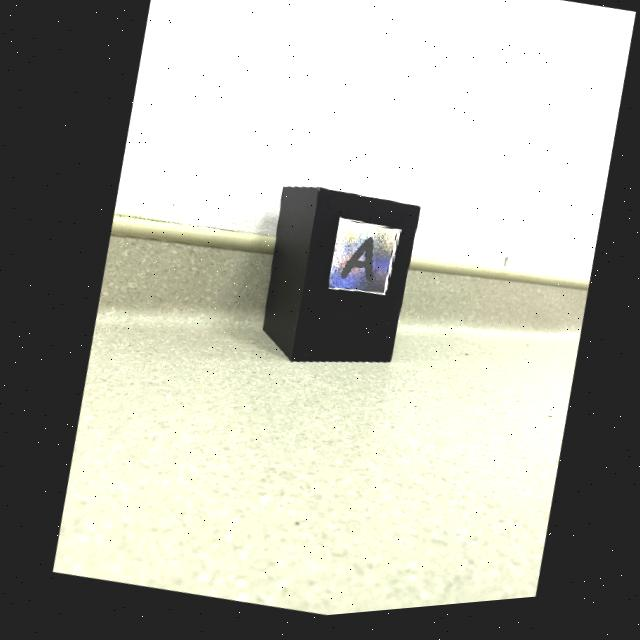A: (335, 243, 368, 288)
